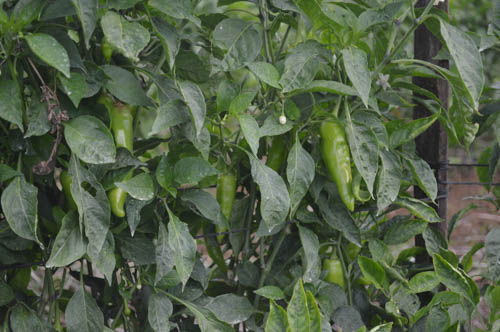ChiliPepper: (320, 120, 357, 210), (109, 104, 136, 218), (216, 172, 237, 239), (264, 137, 285, 174), (319, 256, 343, 286)
